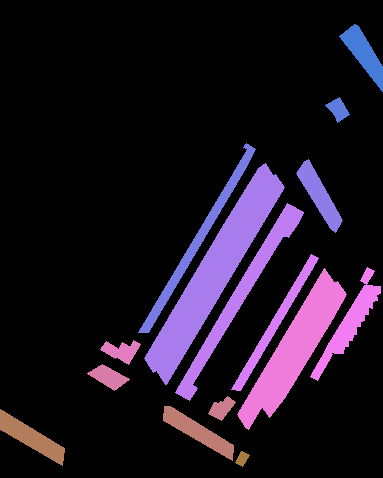parkingspot: (144, 163, 274, 372), (156, 174, 284, 384), (175, 203, 303, 400), (138, 143, 255, 332), (237, 268, 335, 429), (231, 254, 318, 390), (260, 281, 346, 417), (324, 285, 380, 353), (163, 406, 233, 460), (0, 409, 64, 465), (296, 159, 342, 232), (339, 24, 383, 92), (87, 364, 129, 390), (310, 350, 332, 380), (208, 396, 235, 420), (115, 340, 140, 364), (325, 97, 349, 122), (100, 341, 120, 358), (360, 267, 374, 284), (235, 451, 249, 466)
